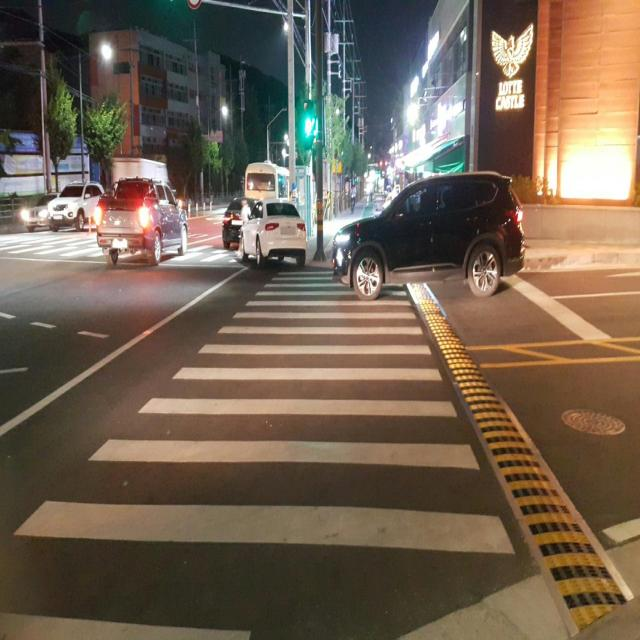초록불: (302, 98, 318, 156)
횡단보도: (0, 263, 518, 640)
